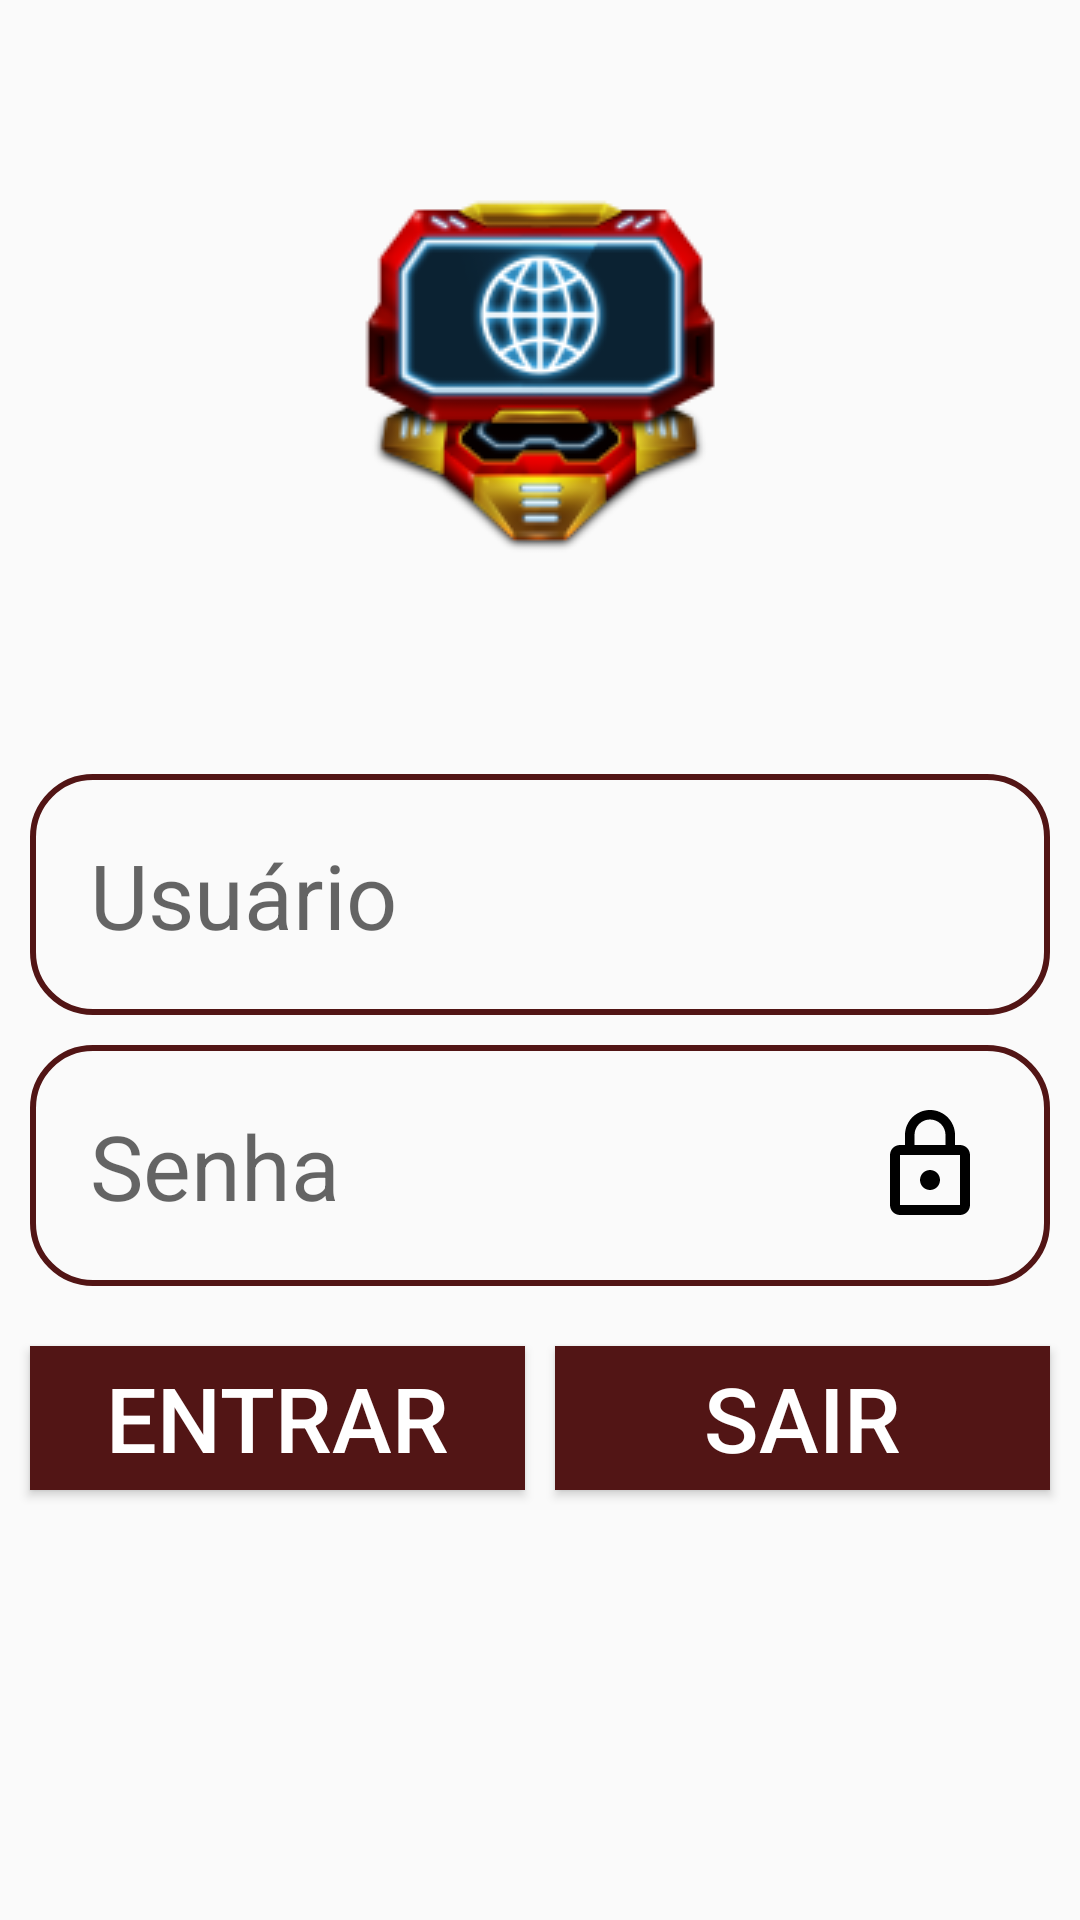

Locate icon controls on the screen. Image size 1080*1920, boxes as {"x1": x1, "y1": y1, "x2": x2, "y2": y2}.
rede: {"x1": 365, "y1": 201, "x2": 715, "y2": 548}
